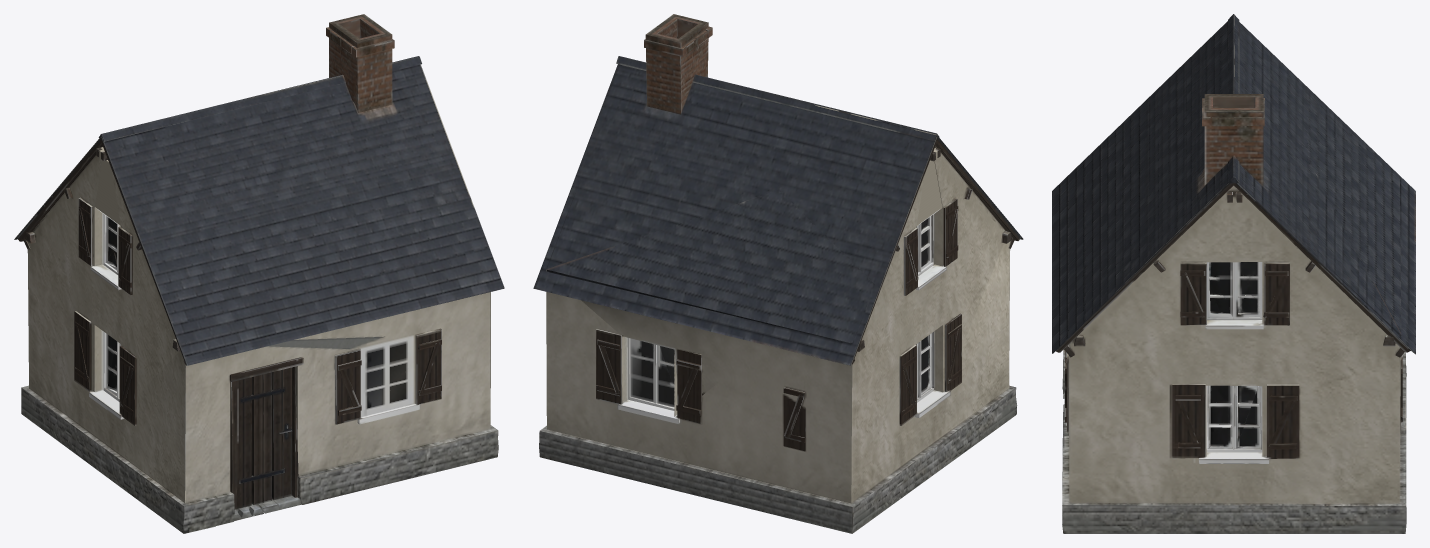
Rendered from house_small.glb.
3 views of the same model, side by side, from view 1: azimuth 30°, elevation 25°; view 2: azimuth 150°, elevation 25°; view 3: azimuth 270°, elevation 25° (orthographic). The views are drawn at different scales.
Parts seen in each view (by area): view 1: Mesh_0; view 2: Mesh_0; view 3: Mesh_0.
Boxes of the visible parts, bbox=[...] form: Mesh_0: bbox=[14, 14, 504, 533]; Mesh_0: bbox=[533, 14, 1023, 533]; Mesh_0: bbox=[1052, 14, 1415, 533].
Bounding box in the file's own units: 0.8315 × 0.9541 × 0.7812.
Materials: 1 (1 with a texture image).
